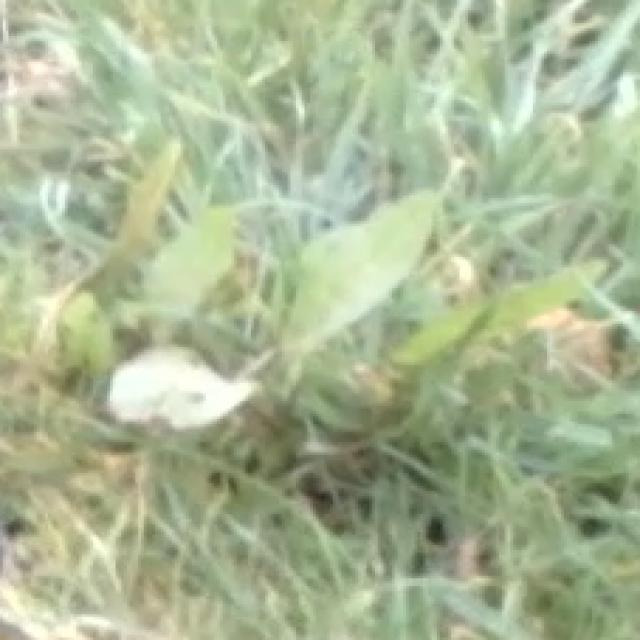organic waste: (0, 178, 640, 516)
